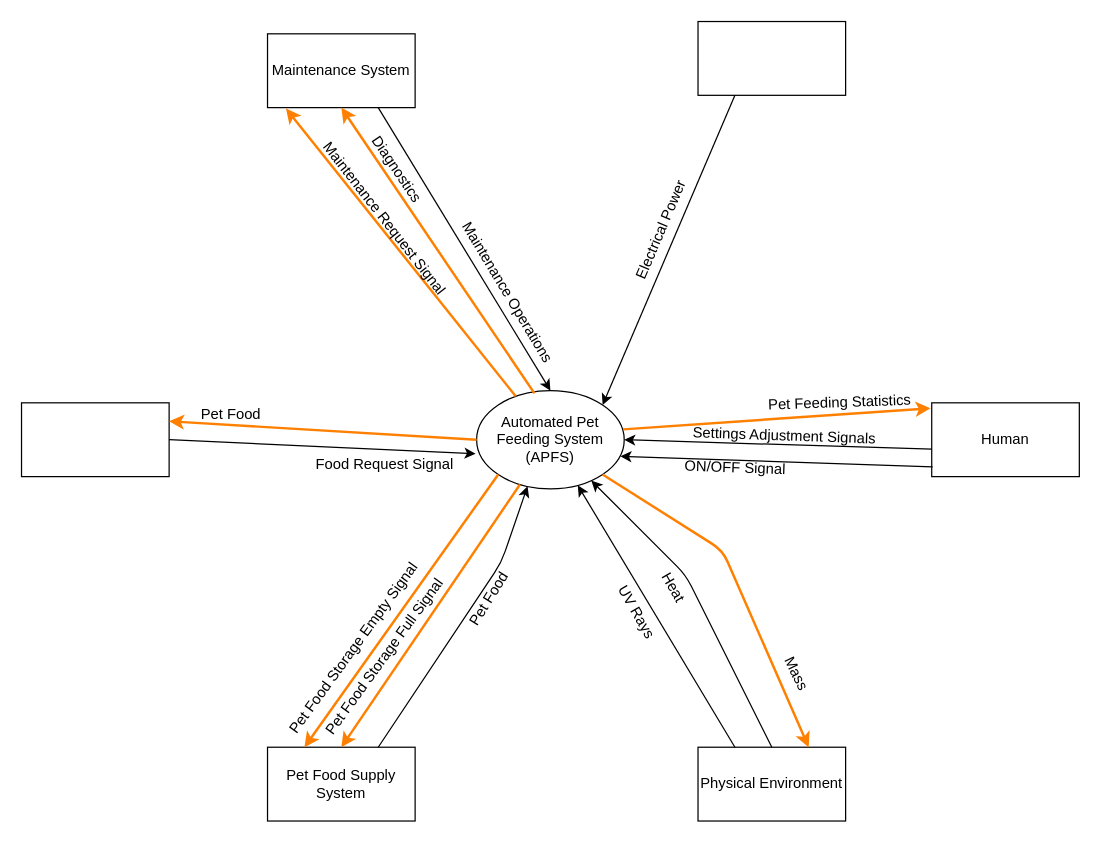
Image size: 1101x843. Some labels were removed from this diagram. The centre of each missing label's shape, as x and y in pixels:
Electricity Supply System: the point at 771,57
Pet: the point at 94,439
